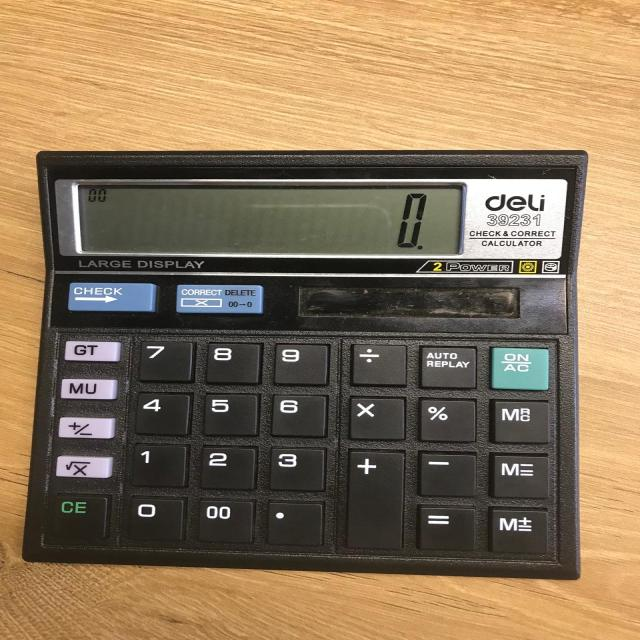calculator: (21, 148, 588, 580)
